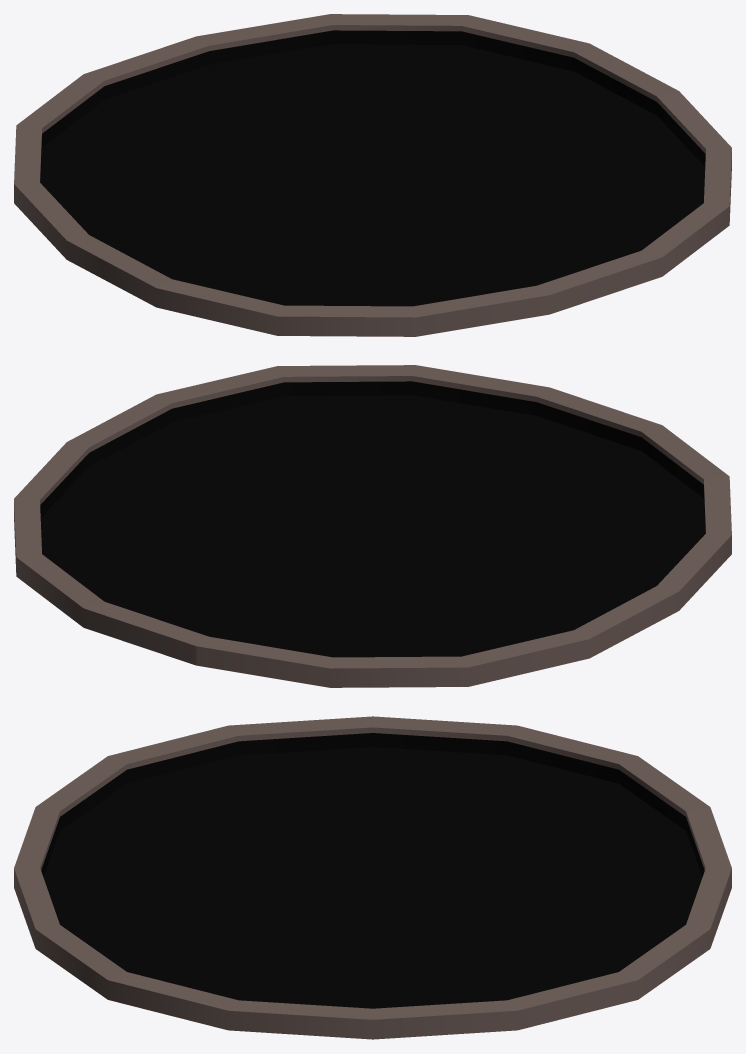
Rendered from item_Manhole_trapped.fbx.
The picture shows the model from 3 angles, top to bottom: view 1: azimuth 30°, elevation 25°; view 2: azimuth 150°, elevation 25°; view 3: azimuth 270°, elevation 25°; orthographic projection.
Parts seen in each view (by area): view 1: polySurface1; view 2: polySurface1; view 3: polySurface1.
Part boxes in pixels (x1=…): polySurface1: x1=14, y1=14, x2=731, y2=336; polySurface1: x1=14, y1=365, x2=731, y2=687; polySurface1: x1=14, y1=716, x2=731, y2=1039.
Bounding box in the file's own units: 187 × 5.67 × 187.
